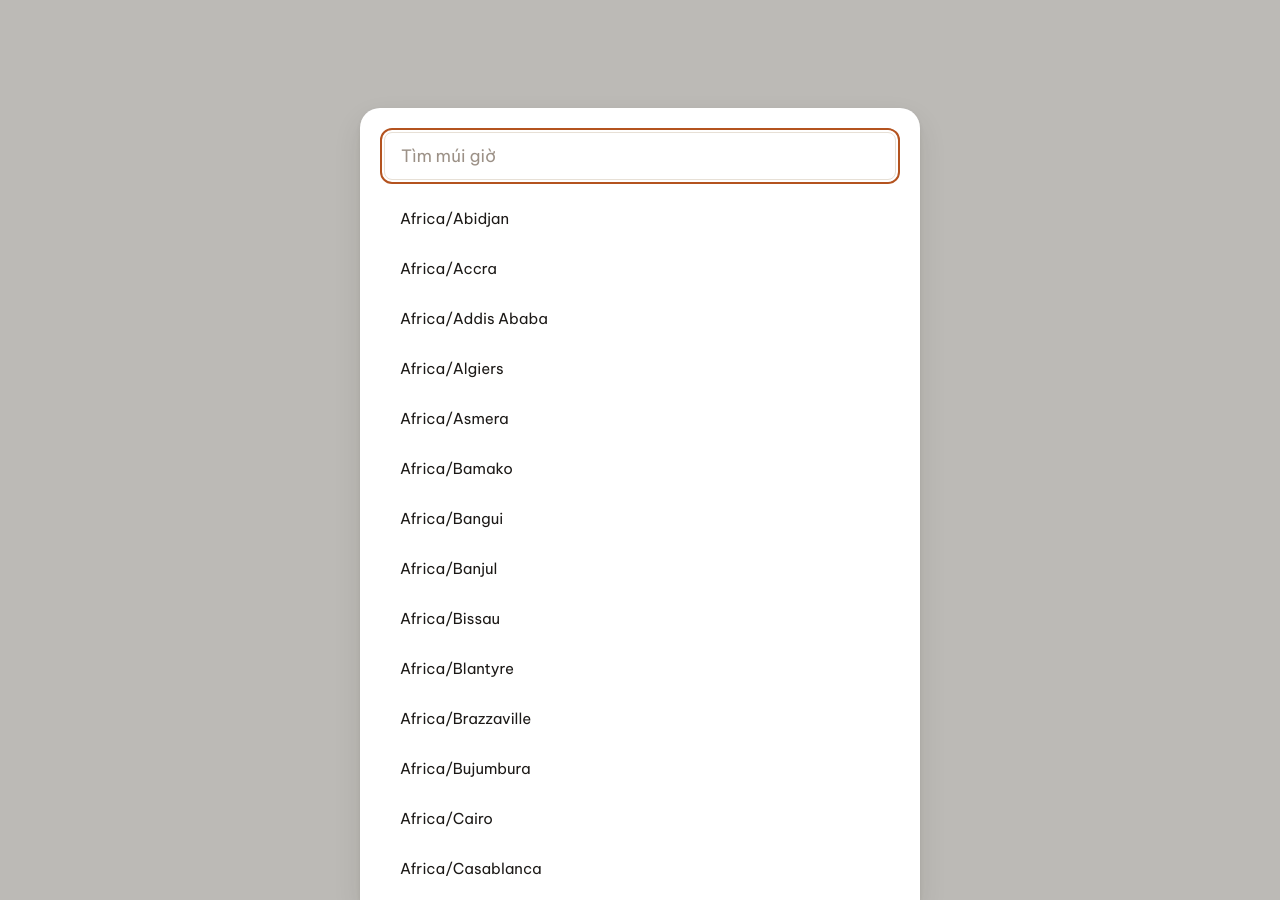
Test: TimeZonePickerSheet › gõ để lọc chỉ còn múi giờ khớp
The image size is (1280, 900).
Type "tokyo" into the search field labelled "Tìm múi giờ". click: (640, 156)
box: [384,132,896,180]
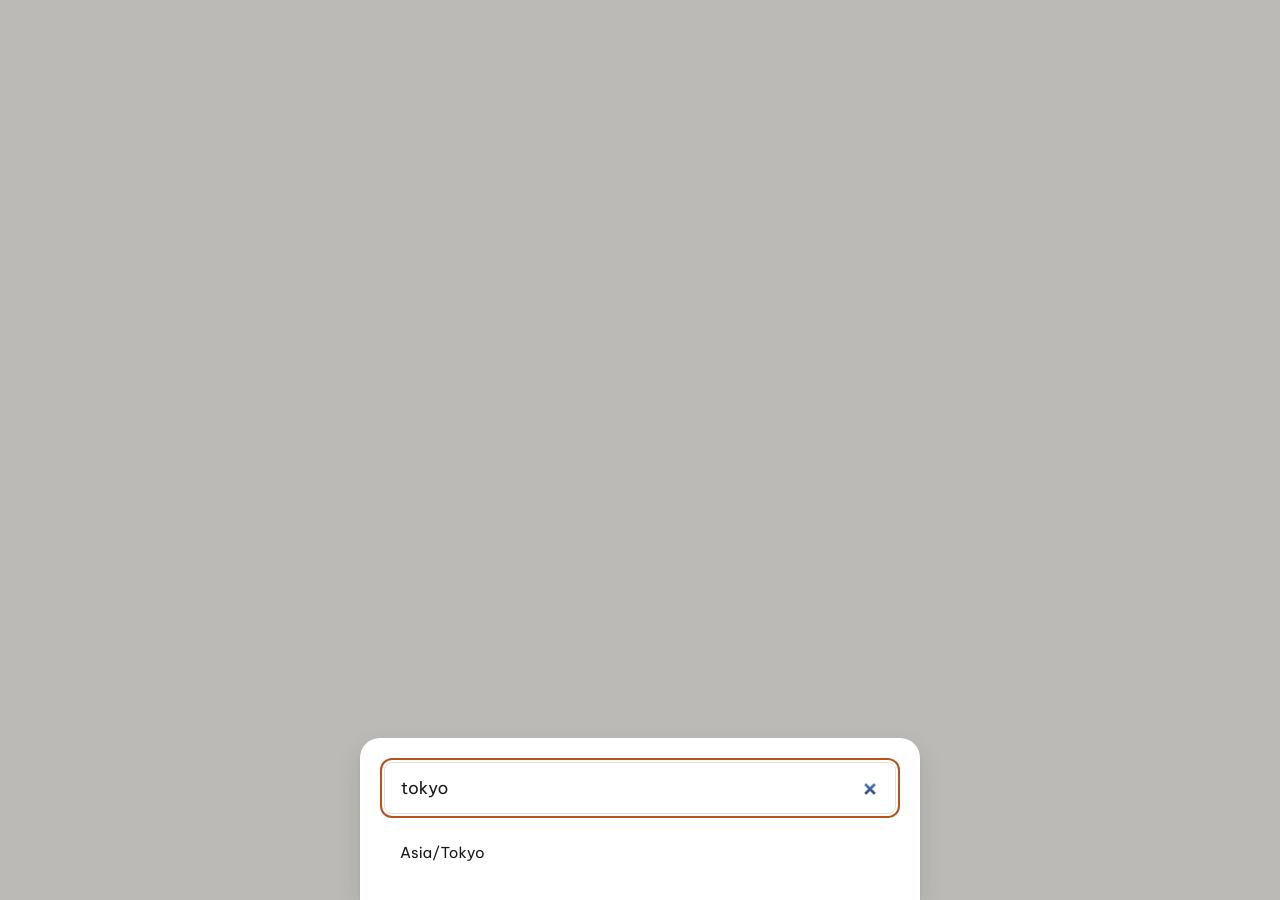
Expected: the button "Asia/Tokyo" is shown, [384,830,896,876]
